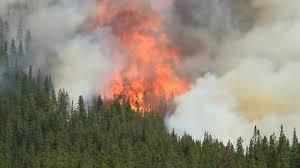fire: (93, 1, 189, 119)
smoke: (163, 0, 299, 142), (1, 1, 121, 113)
